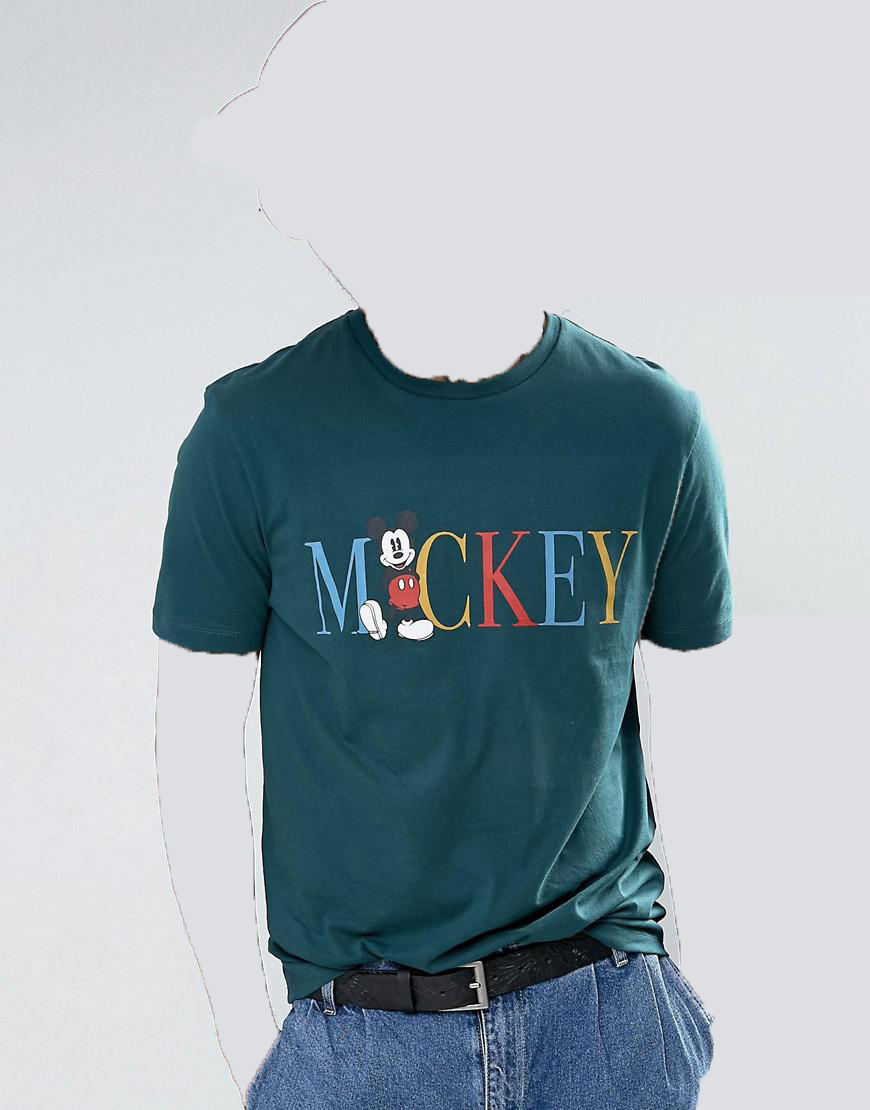teeshirt: (134, 308, 795, 990)
